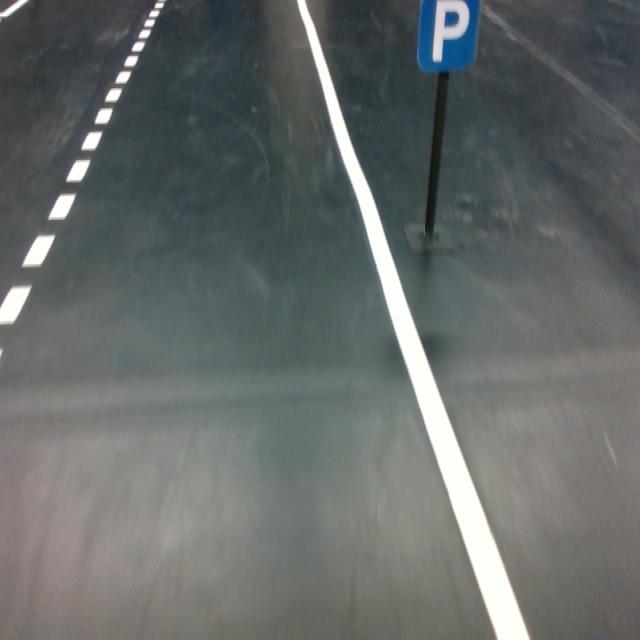parking-sign: (416, 0, 480, 74)
